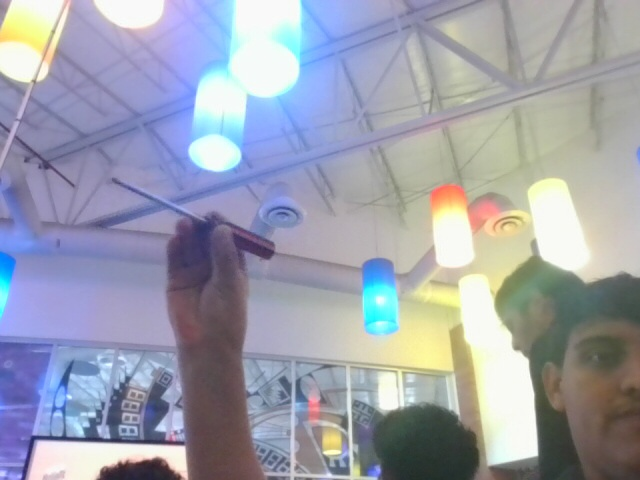destornillador: (112, 178, 276, 260)
